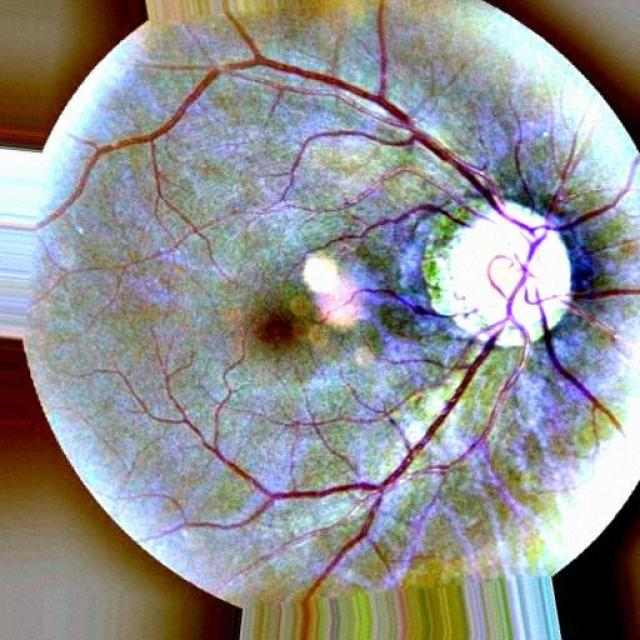Macula: (235, 281, 332, 383)
Nerves: (128, 272, 542, 587), (60, 26, 563, 261)
Optic Disk: (414, 195, 594, 352)
